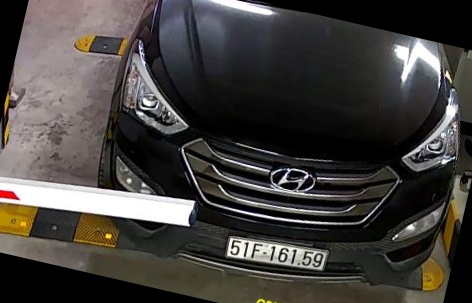plate: (224, 234, 331, 274)
